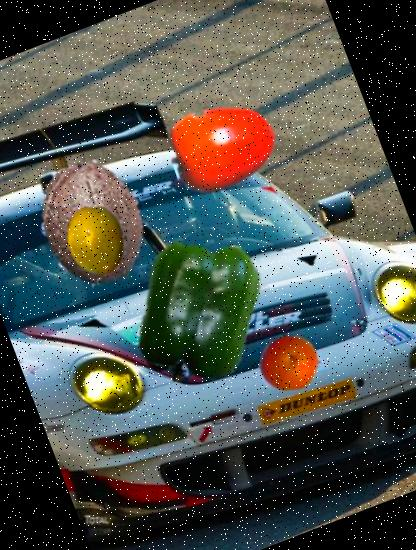Cocos: (12, 141, 176, 305)
Kaki: (154, 78, 292, 216)
Maracuja: (51, 194, 142, 286)
Pepper: (104, 218, 293, 406)
Tangelo: (250, 323, 328, 401)
